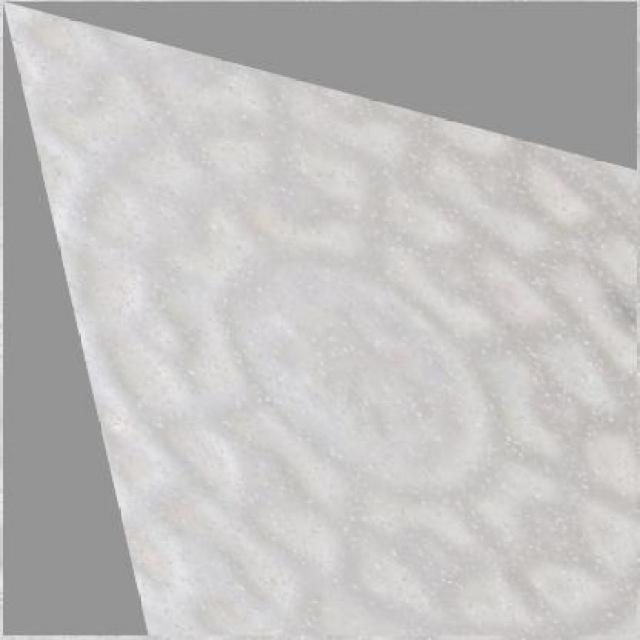Manhole: (2, 2, 638, 636)
